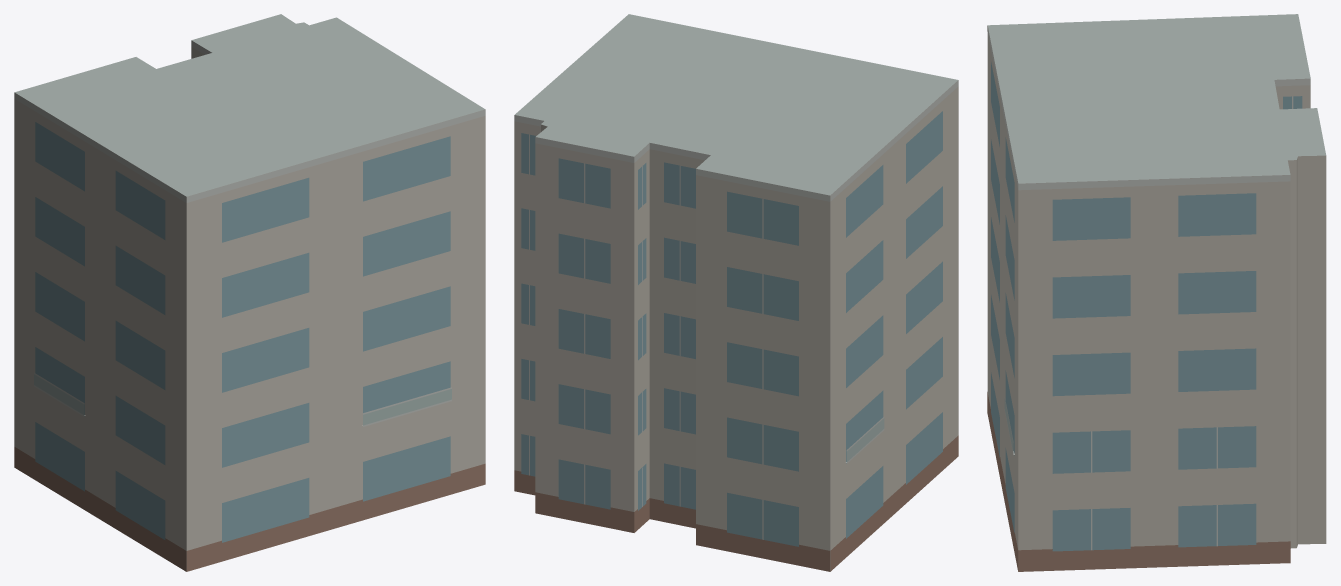
The model's file is survey-upis-32528610.glb.
The picture shows the model from 3 angles, left to right: view 1: azimuth 30°, elevation 25°; view 2: azimuth 150°, elevation 25°; view 3: azimuth 270°, elevation 25°; orthographic projection. The views are drawn at different scales.
Visible parts, largest first — view 1: survey-upis-32528610.tmp; view 2: survey-upis-32528610.tmp; view 3: survey-upis-32528610.tmp.
Part boxes in pixels (x1=…): survey-upis-32528610.tmp: x1=14, y1=14, x2=485, y2=571; survey-upis-32528610.tmp: x1=514, y1=14, x2=958, y2=571; survey-upis-32528610.tmp: x1=987, y1=14, x2=1326, y2=571.
Size of the model in its own units: 13.56 by 14.45 by 11.44.
